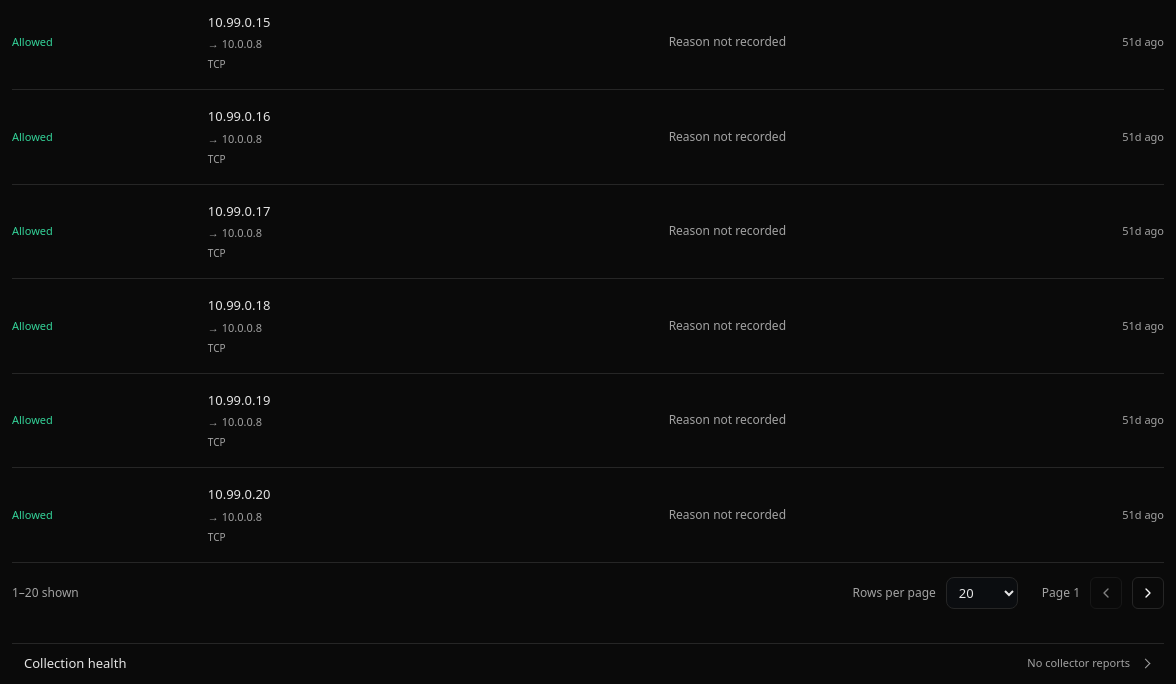
Test: Access event keyset pages › retries a failed next page using the same keyset and retains a previous-page escape from empty later data
The width and height of the screenshot is (1176, 684).
(page scrolled)
Click the button named "Next page" at (1148, 592), box [1132,576,1164,608]
(page scrolled)
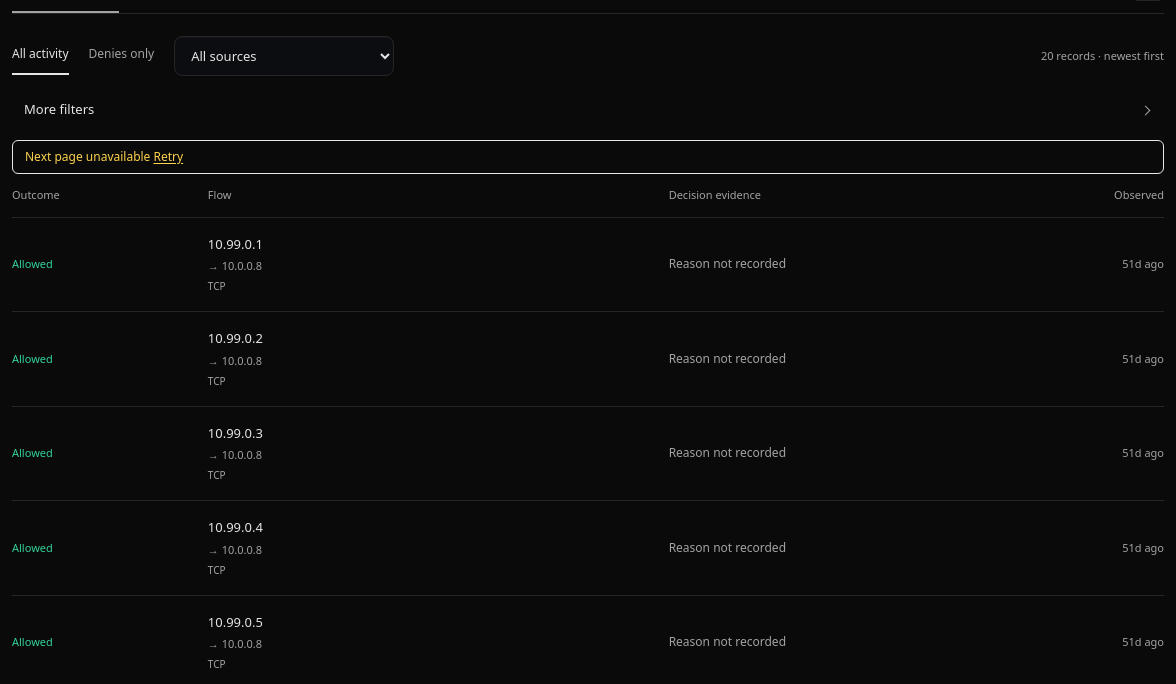
Now the text "Next page unavailable" is shown, box [25,148,150,165]
Click the button "Retry" at (168, 157), box [154,149,183,165]
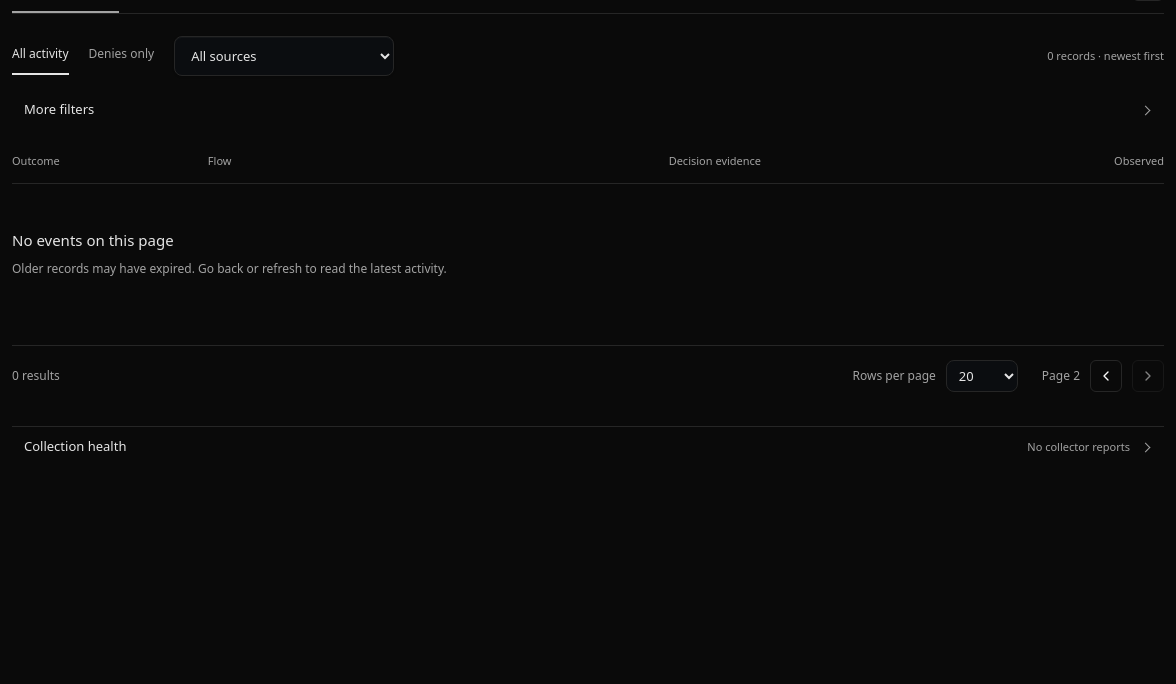
Now the text "Page 2" is shown, box [1042,367,1080,385]
Now the text "0 results" is shown, box [12,367,60,385]
Click the button named "Previous page" at (1106, 376), box [1090,360,1122,392]
(page scrolled)
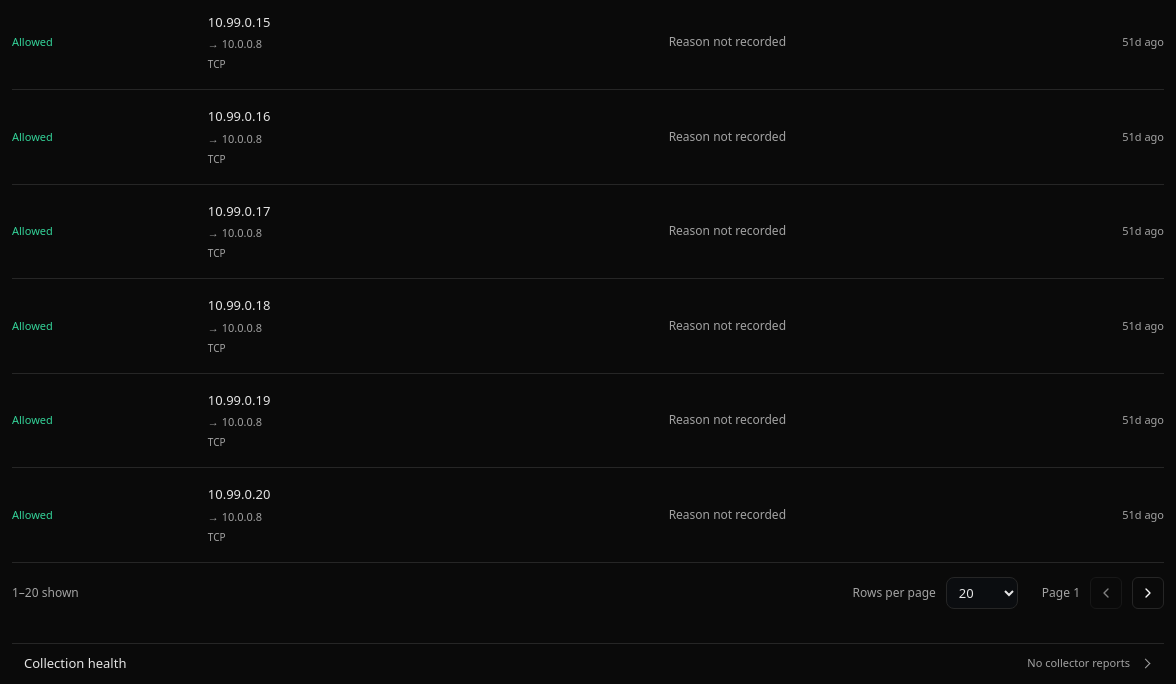
Now the text "Page 1" is shown, box [1042,584,1080,602]
